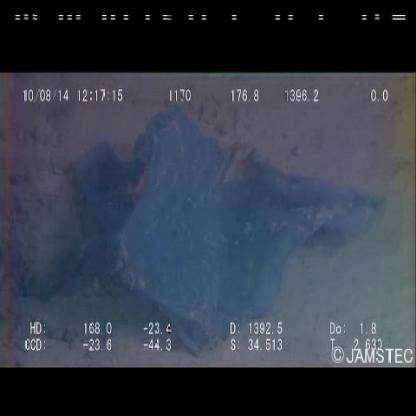Rác: (68, 104, 392, 358)
